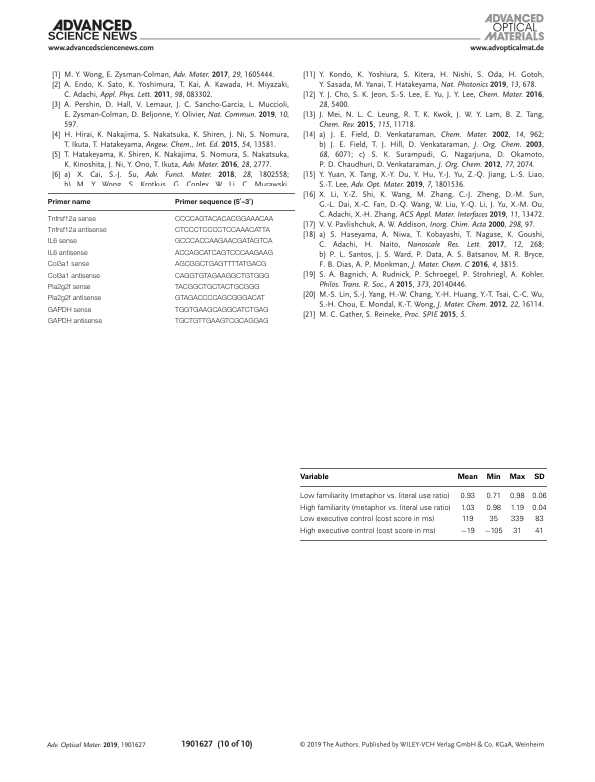borderless: (46, 191, 296, 326), (299, 467, 547, 541)
cell: (298, 504, 451, 513), (298, 492, 450, 501), (298, 527, 436, 536), (298, 515, 435, 524), (174, 215, 274, 224), (174, 249, 274, 258), (174, 226, 270, 235), (174, 317, 269, 326), (174, 260, 267, 269), (174, 238, 273, 246), (174, 283, 260, 292), (174, 272, 270, 280), (174, 306, 269, 314), (174, 295, 265, 303), (174, 198, 254, 206), (47, 226, 107, 235), (47, 317, 103, 326), (47, 215, 96, 224), (47, 295, 102, 303), (47, 272, 100, 280), (47, 283, 91, 292), (47, 260, 90, 269), (47, 249, 88, 258), (47, 306, 92, 314), (47, 198, 91, 206), (298, 473, 329, 481), (47, 238, 77, 246), (483, 527, 503, 536), (456, 473, 478, 481), (508, 492, 525, 501), (459, 492, 475, 501), (485, 492, 501, 501), (531, 492, 547, 501), (459, 504, 475, 513), (485, 504, 501, 513), (531, 504, 547, 513), (459, 527, 475, 536), (508, 473, 525, 481), (509, 504, 524, 513), (509, 515, 524, 524), (485, 473, 501, 481), (460, 515, 474, 524), (533, 473, 545, 481), (488, 515, 498, 524), (534, 515, 544, 524), (512, 527, 522, 536), (534, 527, 544, 536)
